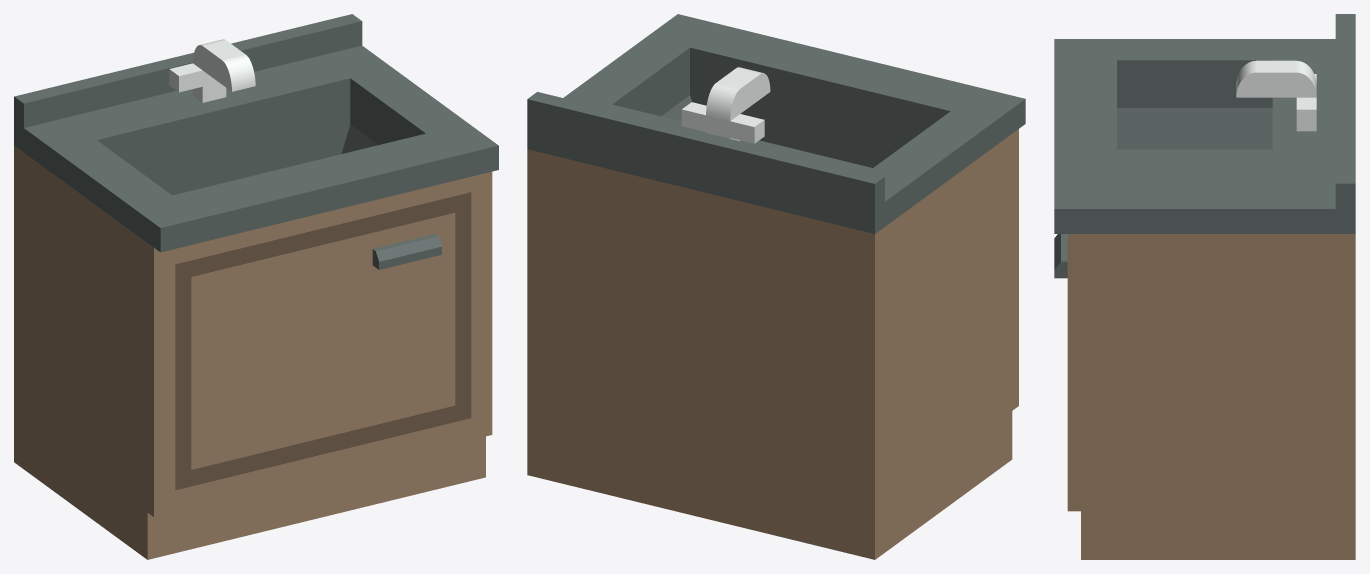
File: smart_sink_faucet.glb
The picture shows the model from 3 angles, left to right: view 1: azimuth 30°, elevation 25°; view 2: azimuth 150°, elevation 25°; view 3: azimuth 270°, elevation 25°; orthographic projection. The views are drawn at different scales.
Visible parts, largest first — view 1: kitchenSink(Clone), door; view 2: kitchenSink(Clone); view 3: kitchenSink(Clone), door.
Part boxes in pixels (x1,y1,x2,y2): kitchenSink(Clone): [14, 14, 498, 559]; door: [175, 192, 471, 490]; kitchenSink(Clone): [527, 14, 1025, 559]; kitchenSink(Clone): [1054, 14, 1355, 559]; door: [1054, 234, 1067, 278].
Size of the model in its own units: 0.8 by 0.9 by 0.6.
